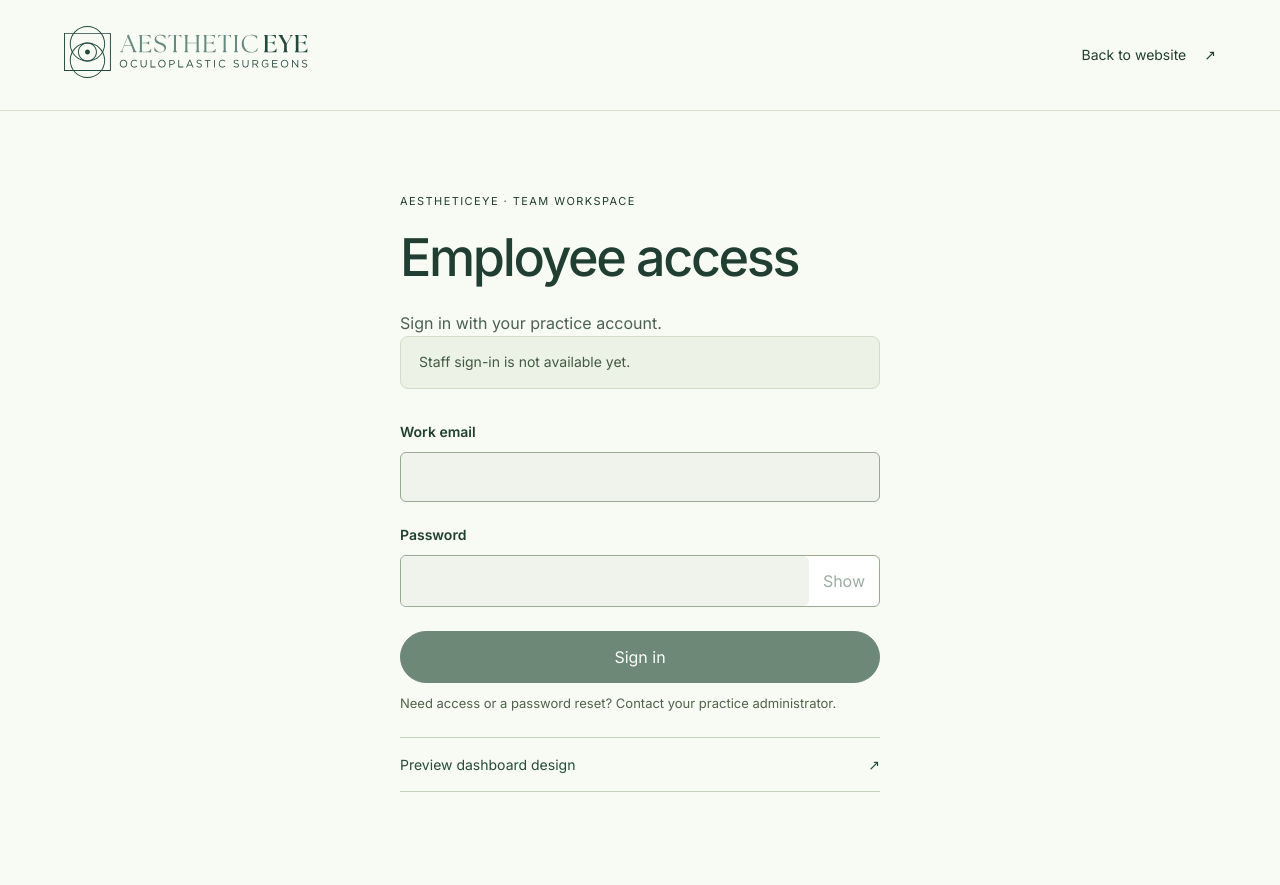
Test: employee authentication boundary › offers a local design preview without creating a session or loading staff data
Click the button "Preview dashboard design ↗". click: (488, 765)
box: [400,737,880,792]
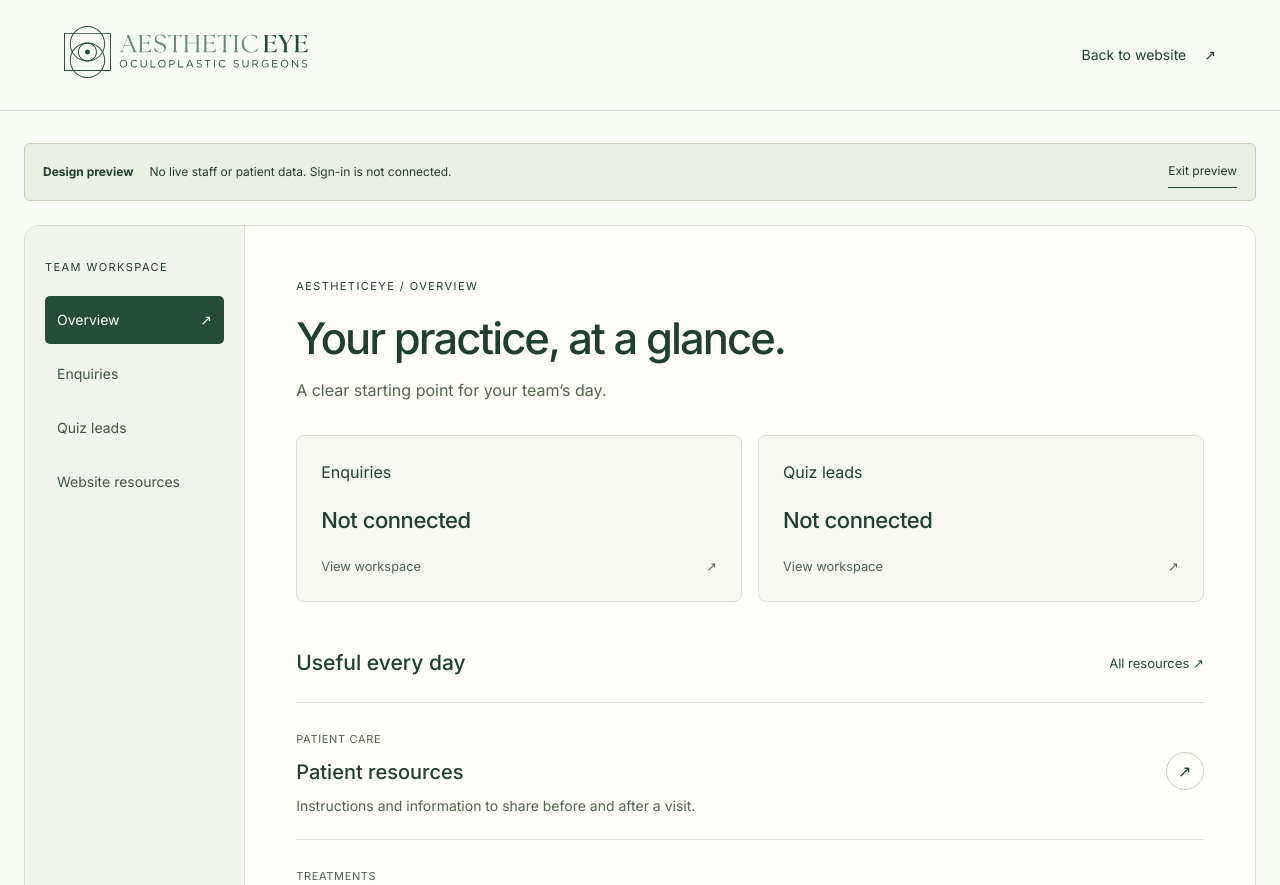
Check: the text "Design preview" is shown, box [43,163,133,181]
Click the button "Enquiries". click: (134, 374)
box: [45,350,224,398]
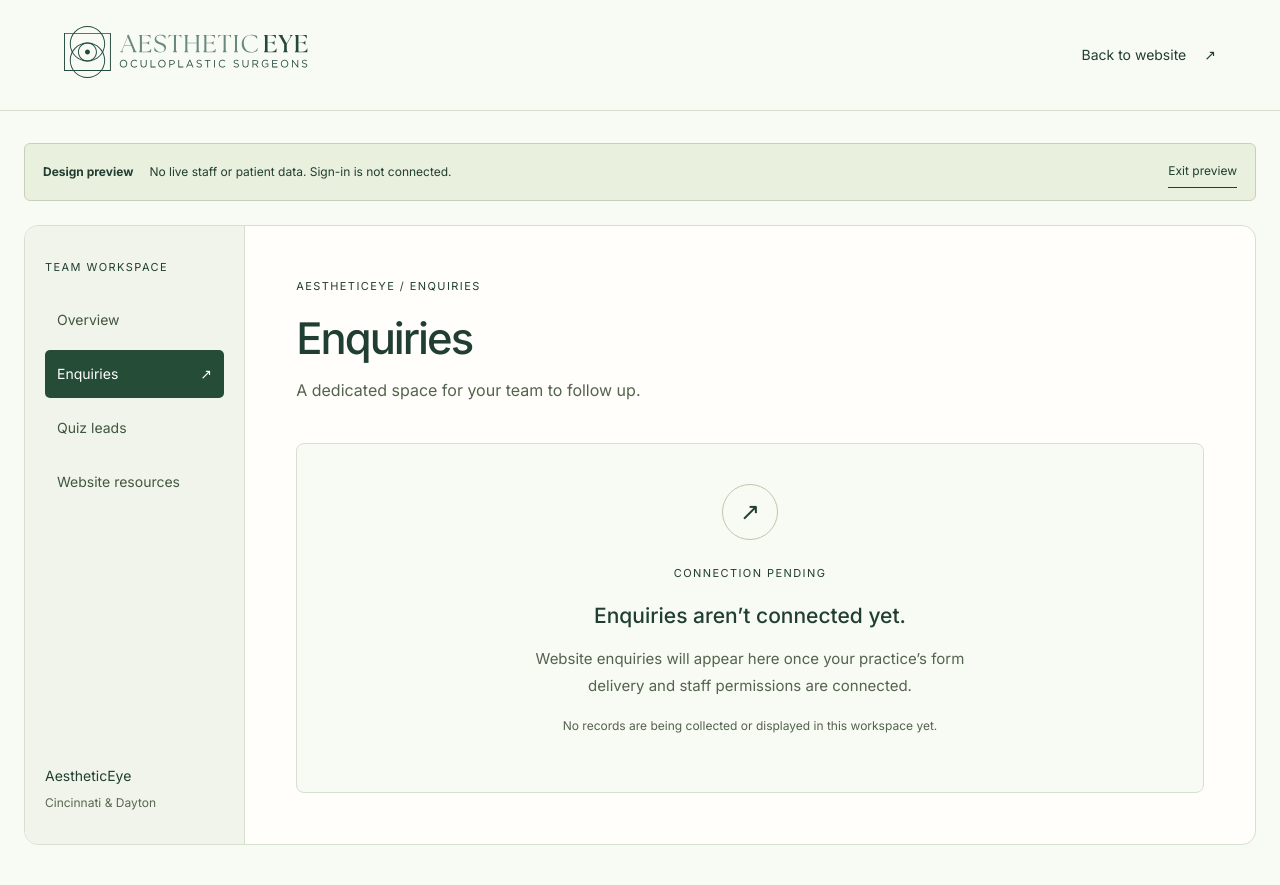
Check: the text "No records are being collected or displayed in this workspace yet." is shown, box [563,718,937,733]
Click the button "Website resources". click: (134, 482)
box: [45,458,224,506]
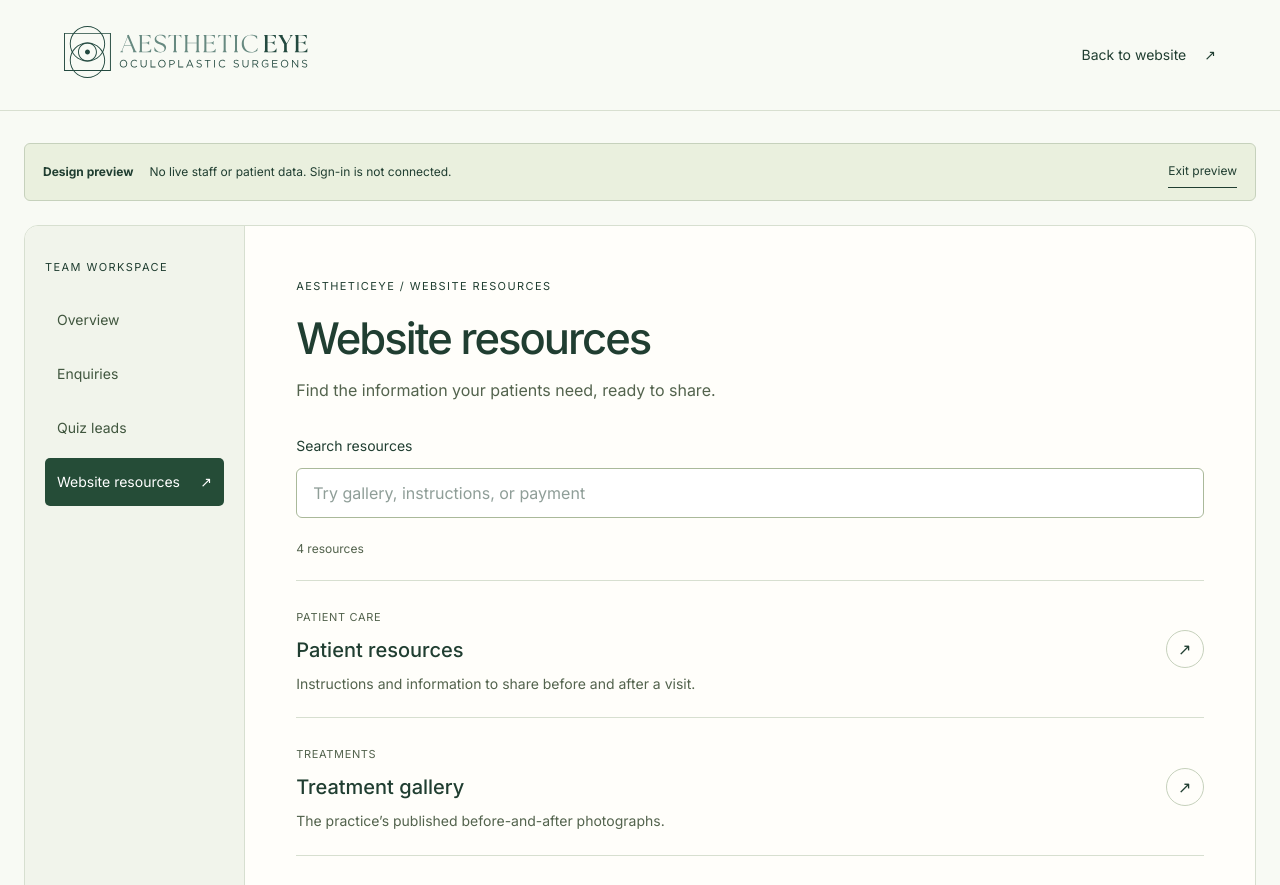
Type "payment" into the search field labelled "Search resources". click: (750, 493)
box: [296,468,1204,518]
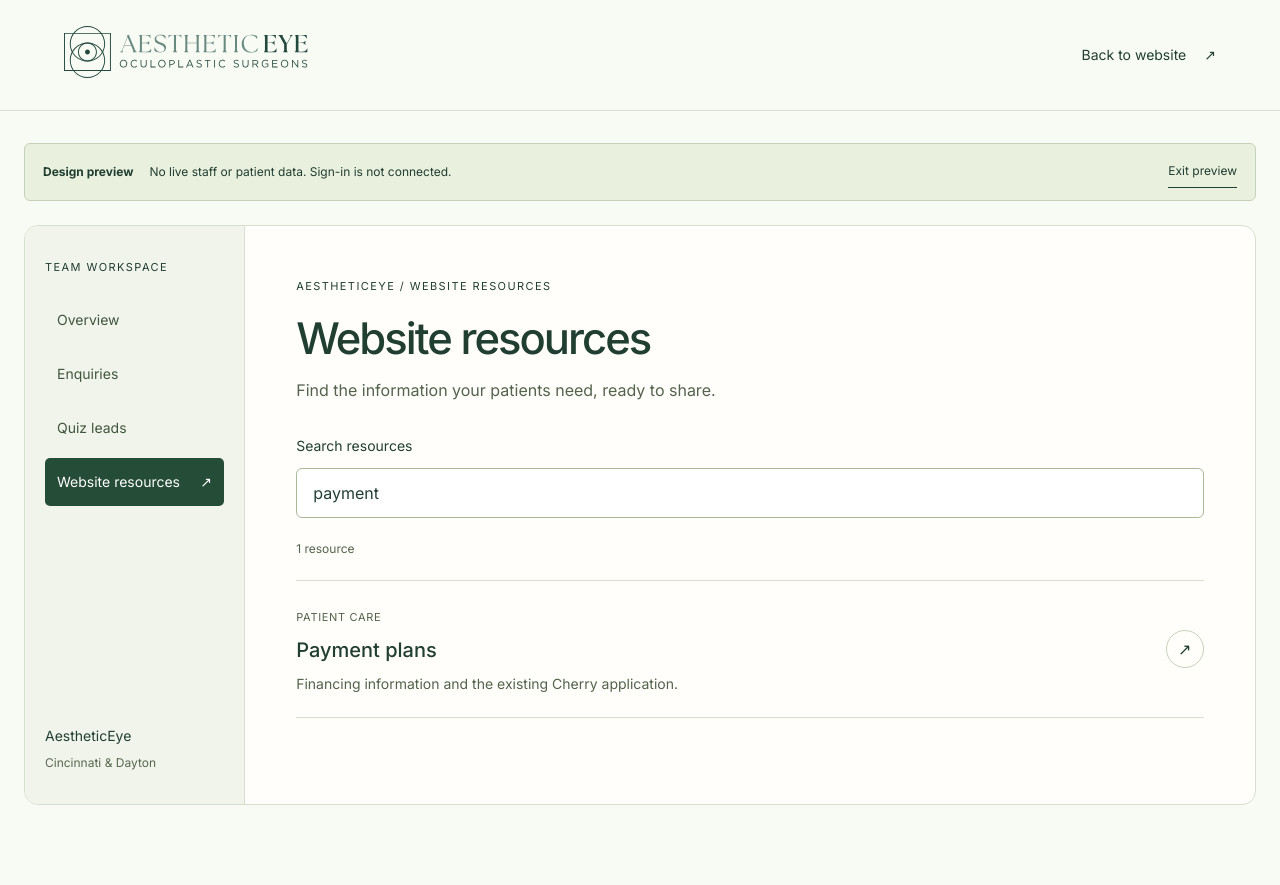
Check: the link "Treatment gallery" is gone
Click the button "Exit preview". click: (1203, 172)
box: [1168,156,1237,188]
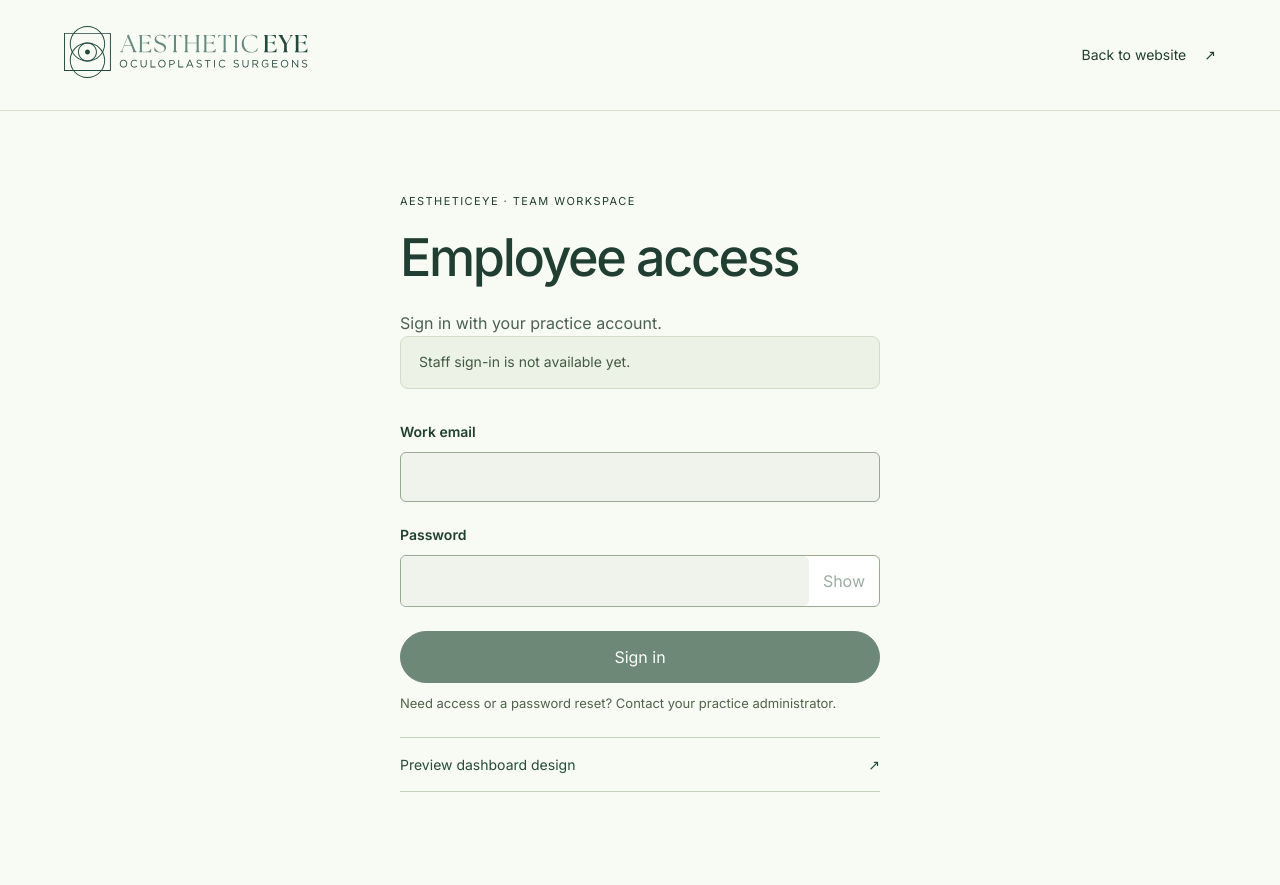
Check: the password field labelled "Password" is disabled, box [401,556,809,606]
